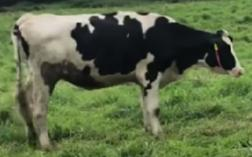cow: (11, 12, 245, 149)
